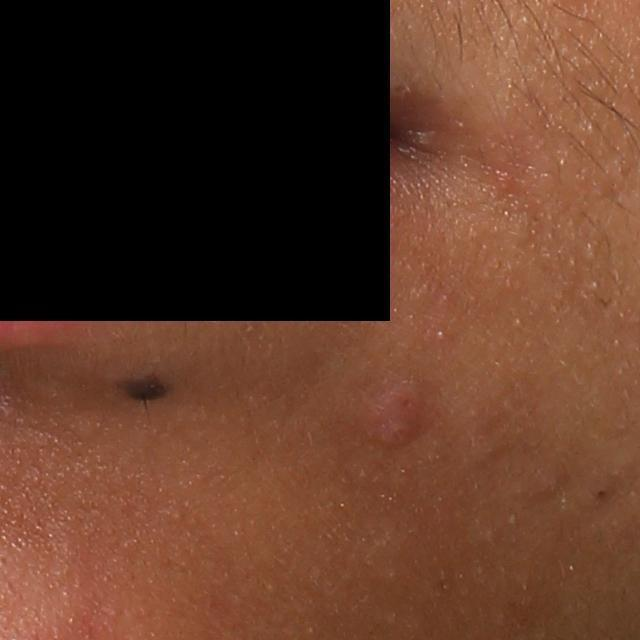nevus: (123, 380, 165, 405)
papule: (369, 387, 425, 455)
